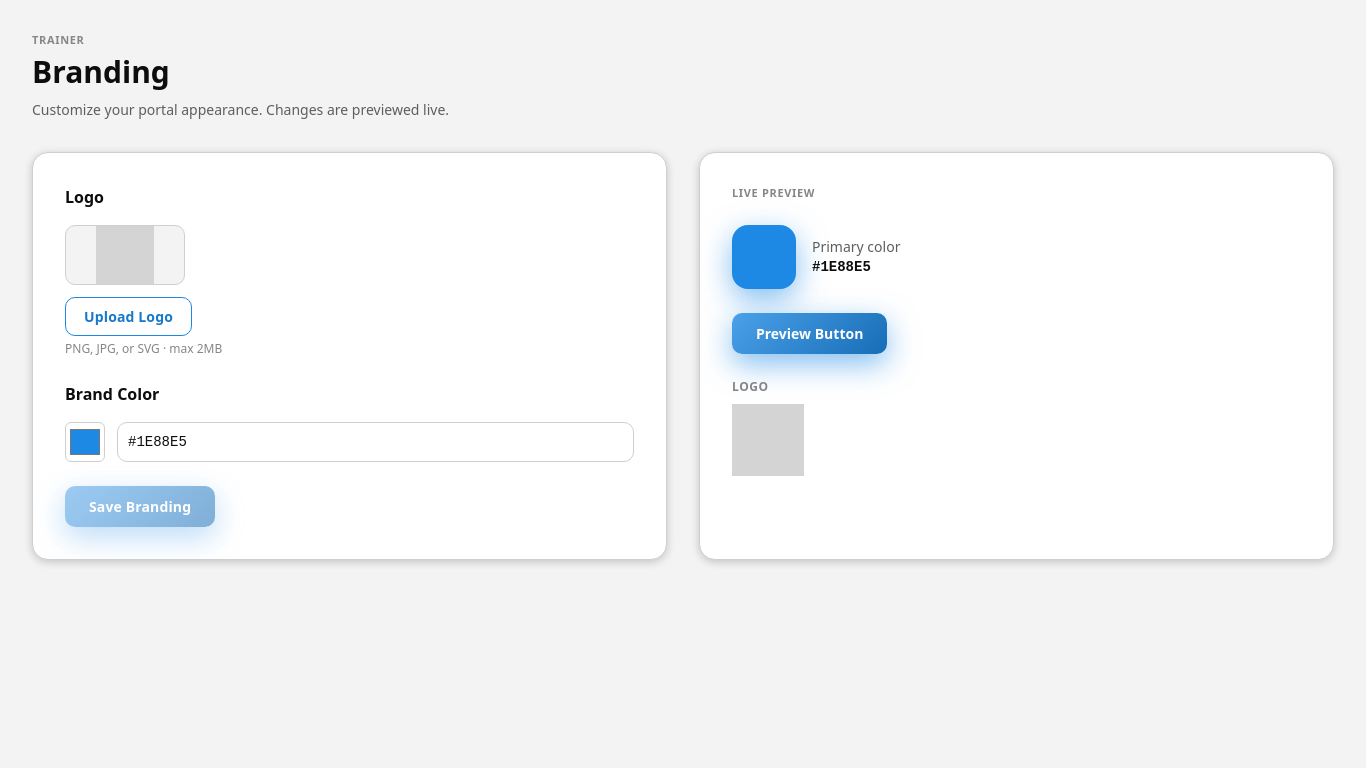
it: TrainerBranding › live preview updates --brand-primary when color changes
This screenshot has width=1366, height=768.
Note: Clear and type a new color
Replace the text in the field named "brand color hex value" with "#FF5500" at (376, 442), box [117, 422, 634, 462]
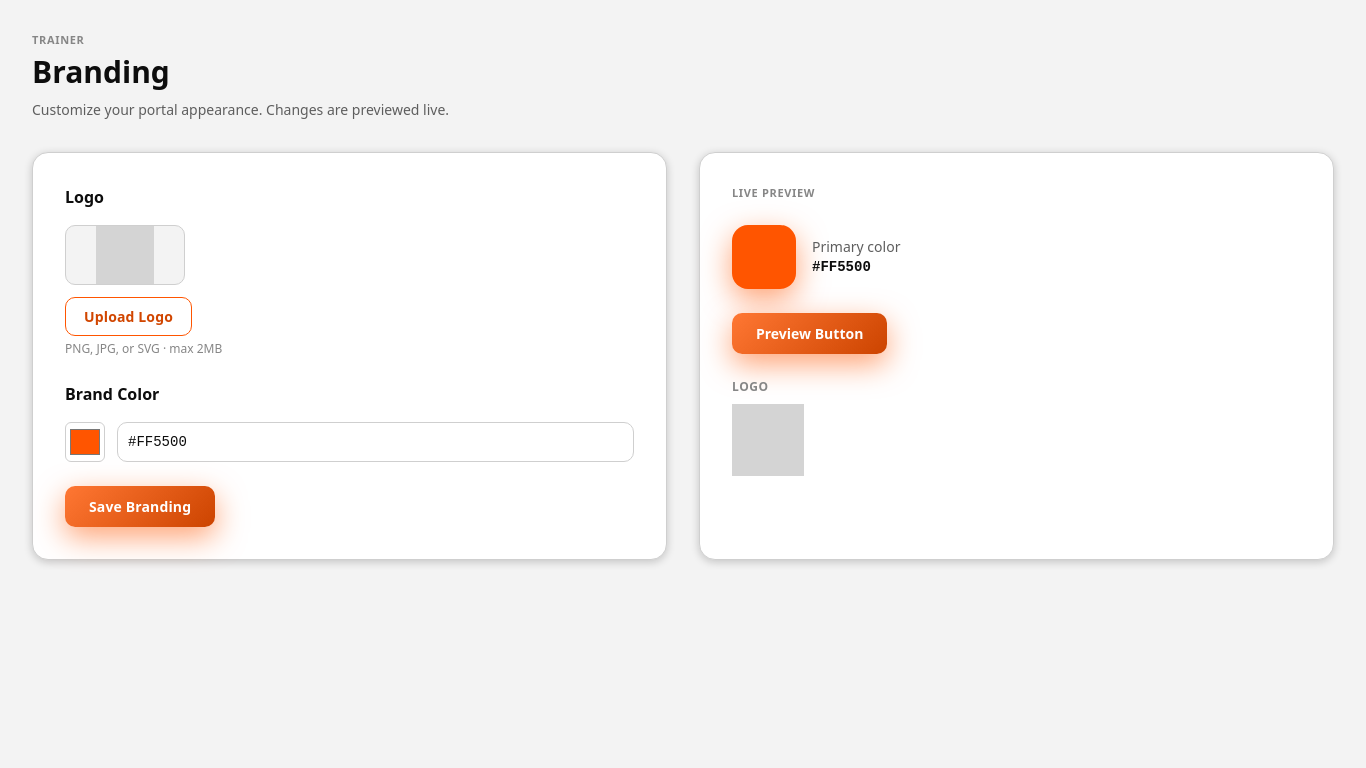
Expected: the text "#FF5500" is shown, [812, 259, 871, 275]
